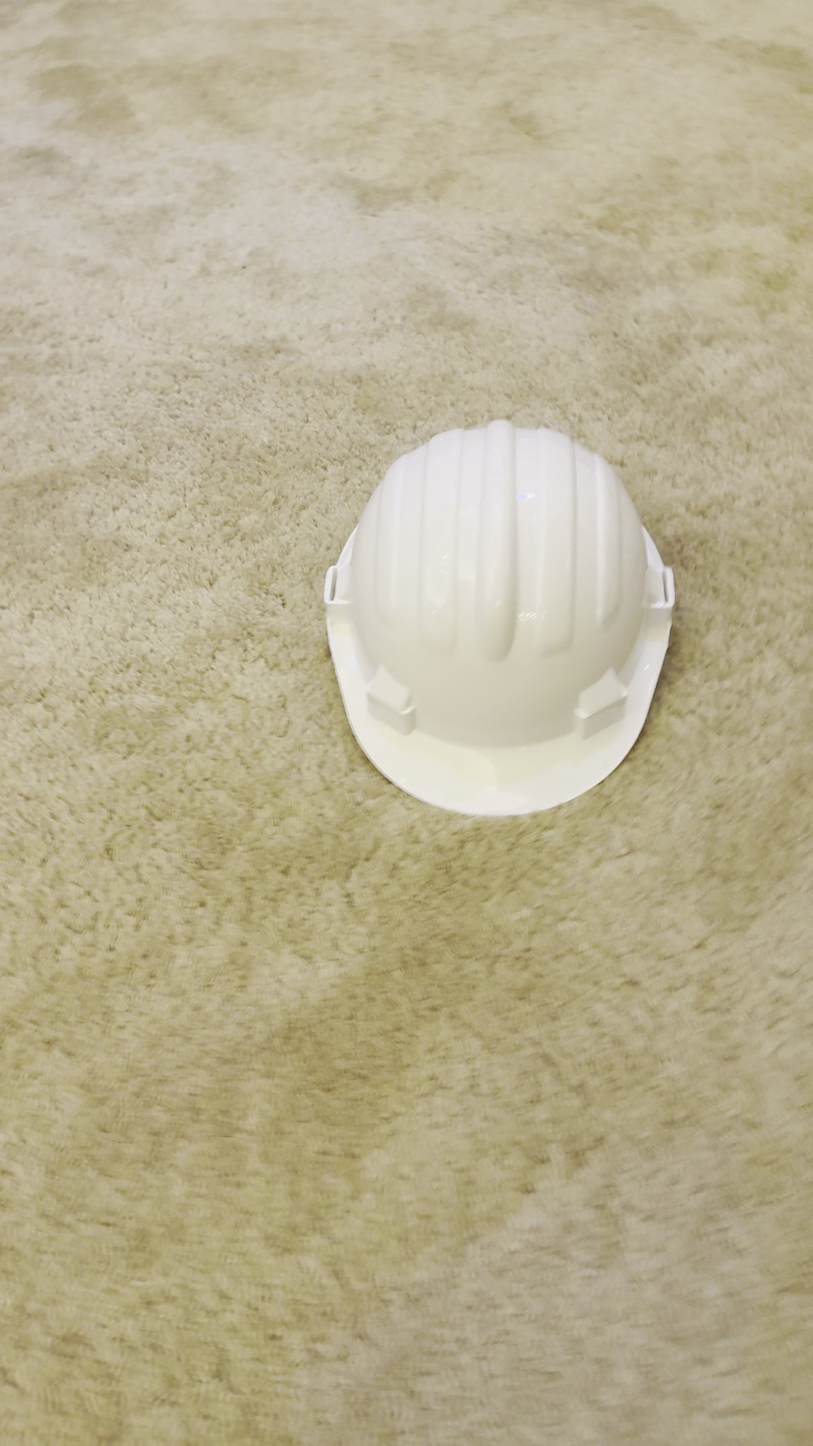safety_helmet: (321, 417, 676, 819)
